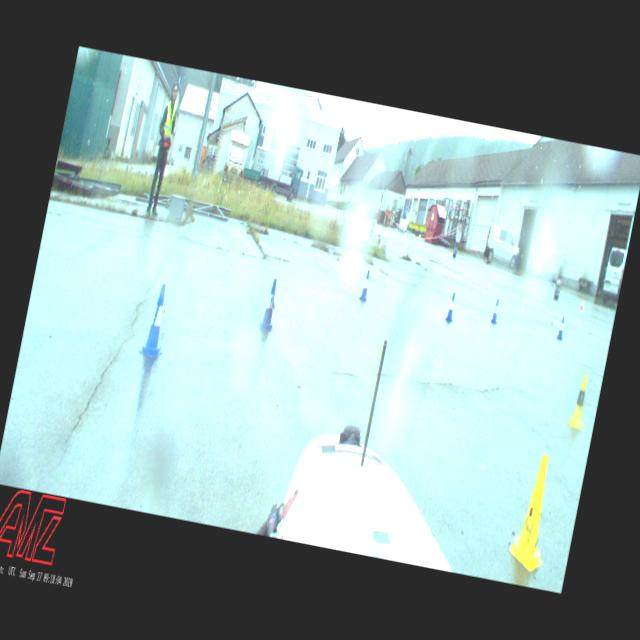blue_cone: (139, 284, 174, 359), (258, 278, 282, 332), (360, 269, 372, 302), (446, 292, 458, 322), (490, 299, 500, 323), (556, 316, 566, 340)
orange_cone: (580, 298, 584, 310)
yellow_cone: (505, 452, 563, 576), (568, 374, 592, 429)
